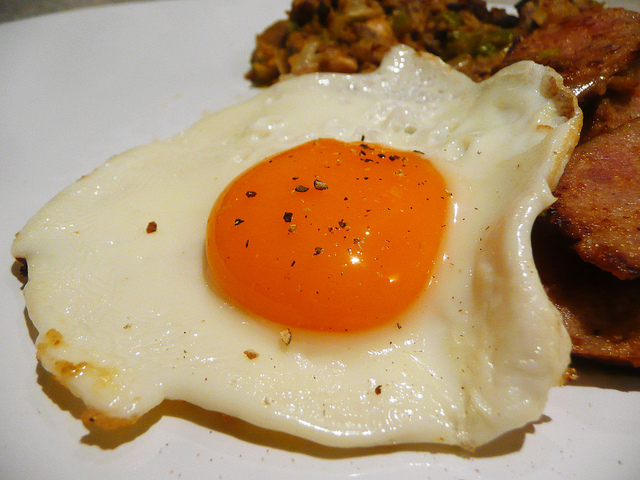fried egg: (22, 67, 579, 459)
